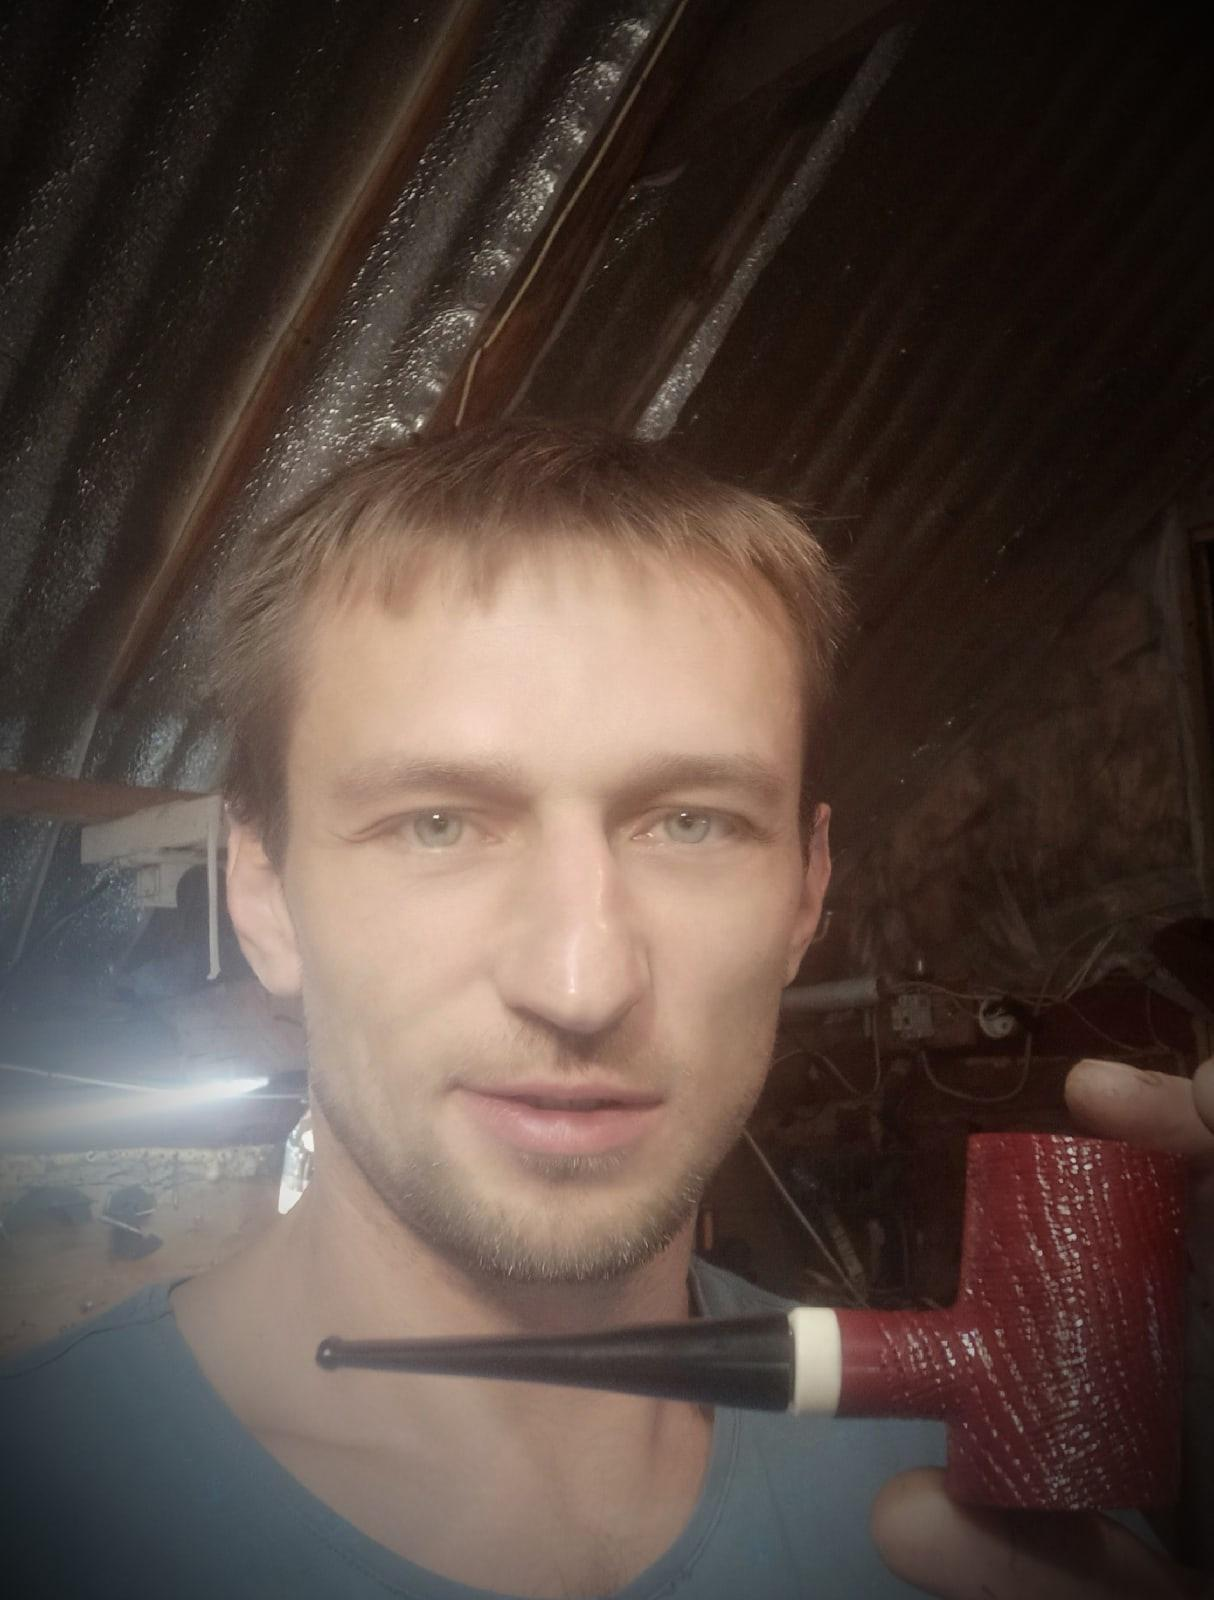trubka: (315, 1133, 1183, 1509)
